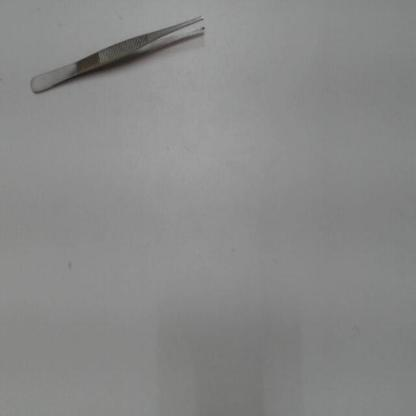Gillies Toothed Dissector: (22, 9, 212, 101)
